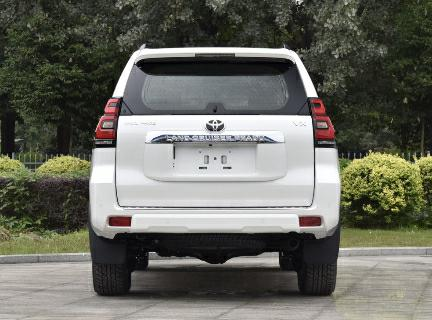丰田-普拉多: (78, 43, 354, 302)
